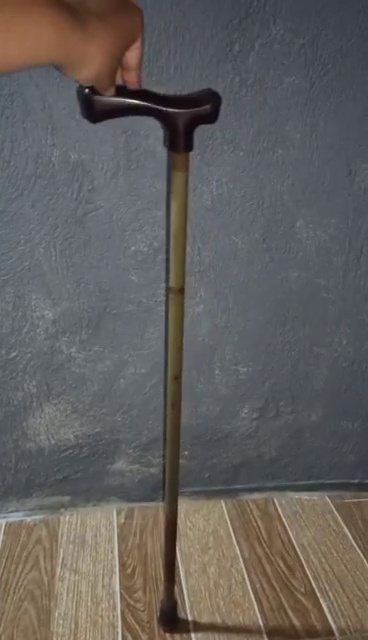cane: (75, 80, 223, 630)
hand: (1, 1, 143, 99)
